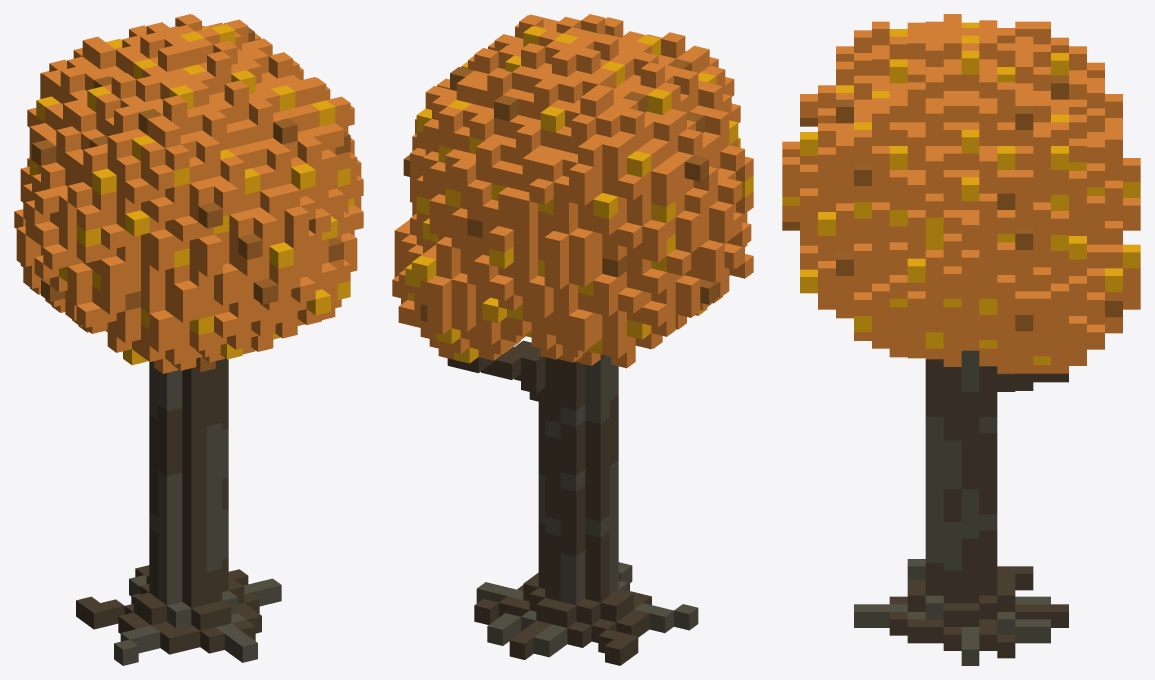
Rendered from tree_big_autumn_3.obj.
3 renders of one model, left to right at view 1: azimuth 30°, elevation 25°; view 2: azimuth 150°, elevation 25°; view 3: azimuth 270°, elevation 25°, orthographic.
Size of the model in its own units: 2 by 3.6 by 2.
1 material, 1 textured.
